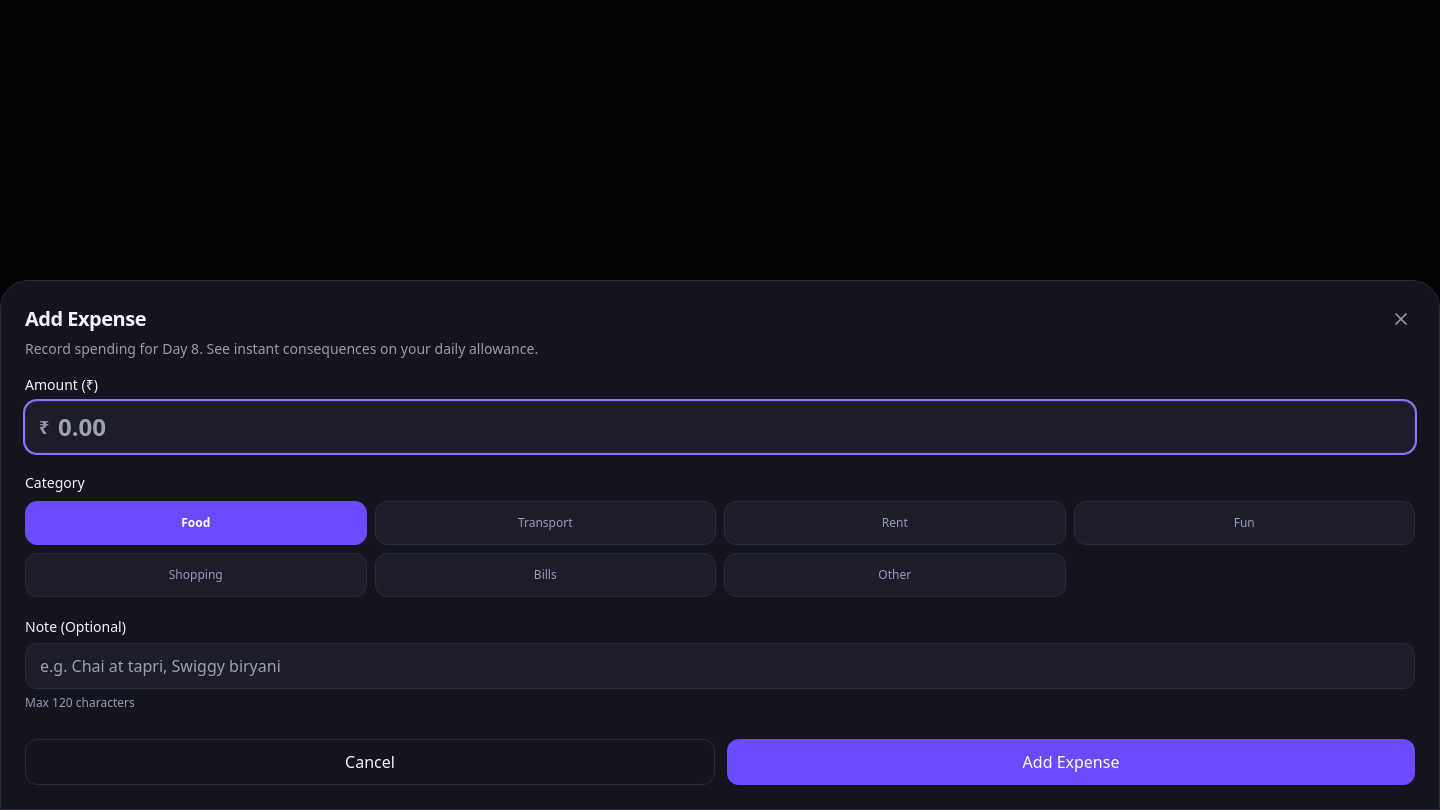
Test: AddExpenseModal Component › shows live preview of daily allowance impact before submitting
This screenshot has width=1440, height=810.
Expected: the heading "Add Expense" is shown, left=25, top=305, right=146, bottom=332
In the field labelled "Amount (₹)": [720, 427] box left=25, top=401, right=1415, bottom=453, type "230"
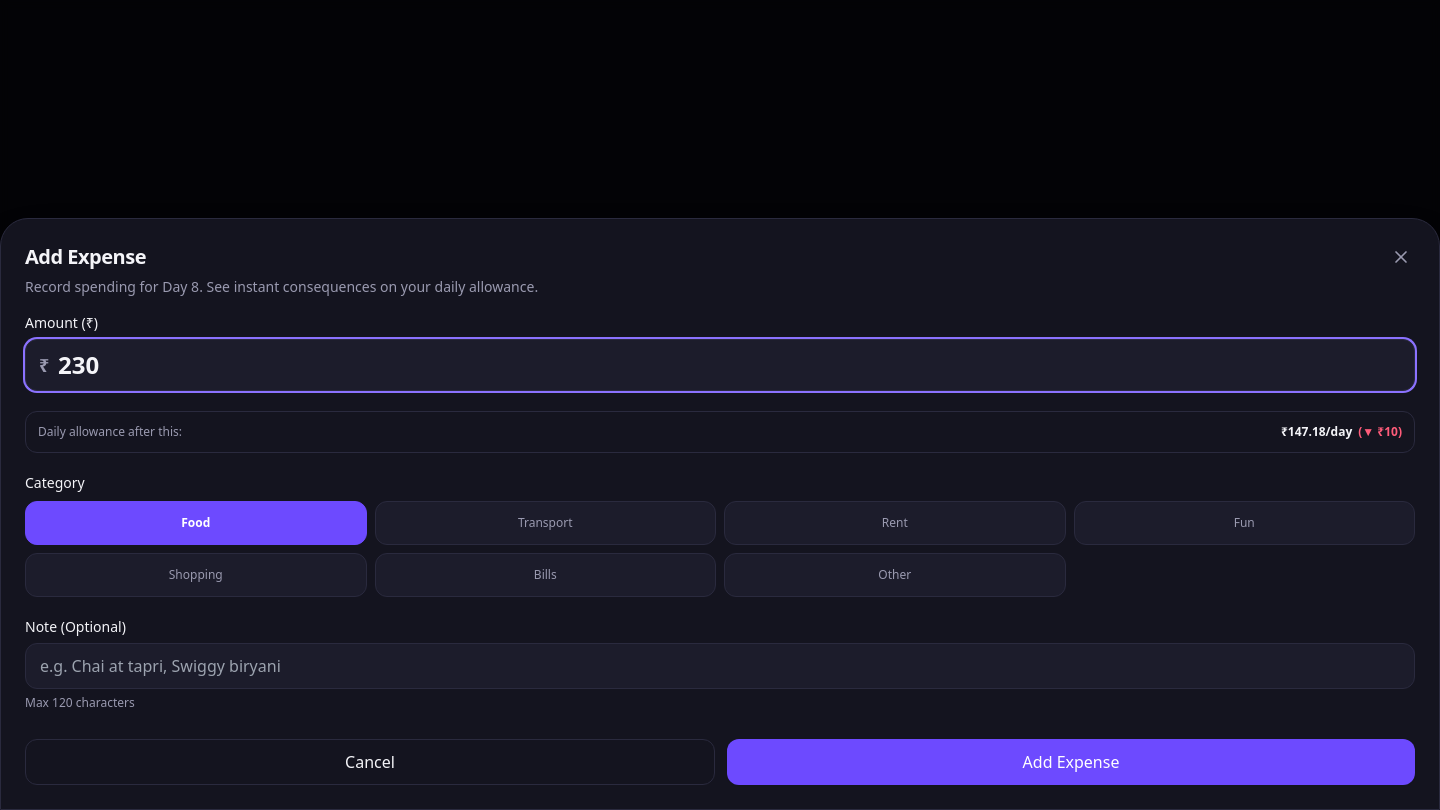
Expected: the text "Daily allowance after this:" is shown, left=38, top=424, right=182, bottom=440
